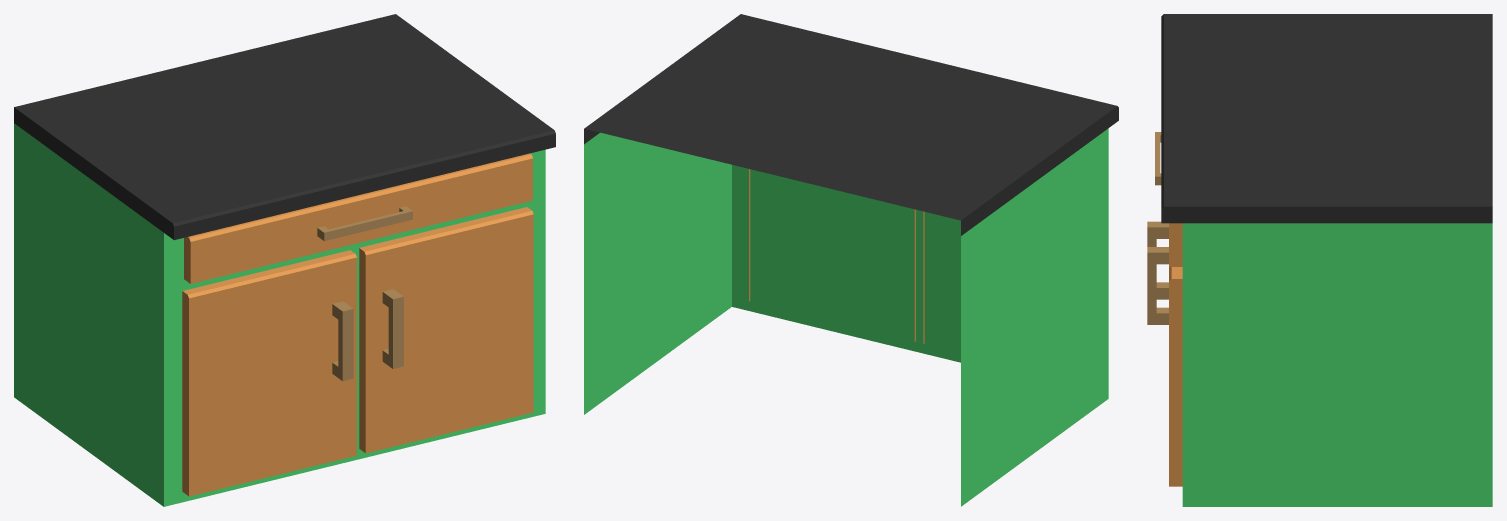
The model's file is propsMaison_meublecuisine.fbx.
3 renders of one model, left to right at view 1: azimuth 30°, elevation 25°; view 2: azimuth 150°, elevation 25°; view 3: azimuth 270°, elevation 25°, orthographic. The views are drawn at different scales.
Parts seen in each view (by area): view 1: meublecuisine; view 2: meublecuisine; view 3: meublecuisine.
Part boxes in pixels (left/top/right/bottom): meublecuisine: left=14, top=14, right=555, bottom=506; meublecuisine: left=584, top=14, right=1118, bottom=506; meublecuisine: left=1147, top=14, right=1492, bottom=506.
Size of the model in its own units: 286 by 208 by 216.
